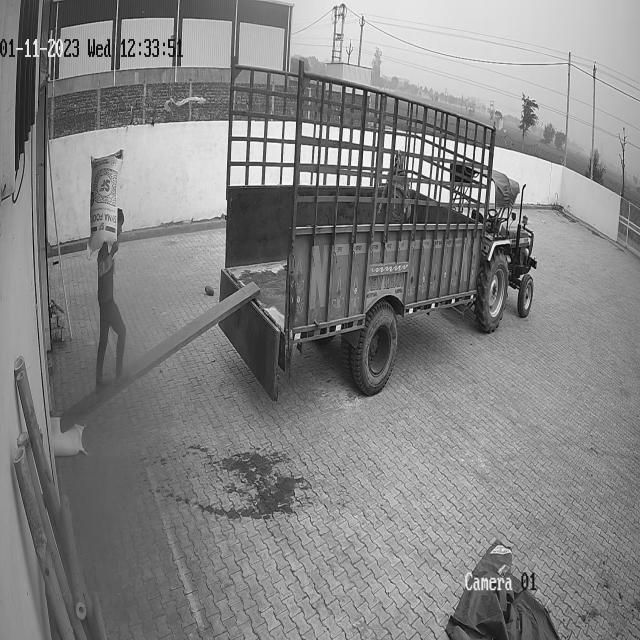sack: (87, 150, 123, 258), (50, 416, 83, 456)
